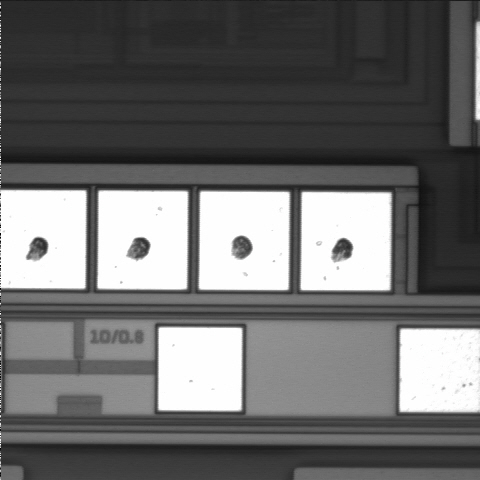pad: (199, 191, 289, 290), (98, 191, 188, 289), (301, 192, 391, 290), (158, 327, 242, 411)
